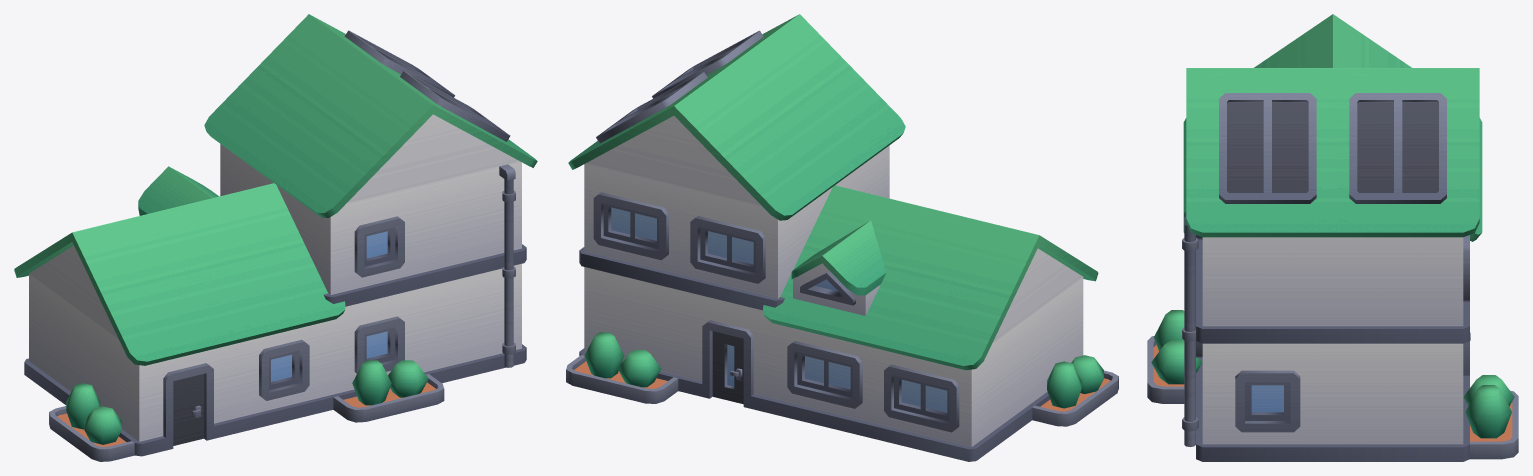
The model's file is building-type-b.draco.glb.
The picture shows the model from 3 angles, left to right: view 1: azimuth 30°, elevation 25°; view 2: azimuth 150°, elevation 25°; view 3: azimuth 270°, elevation 25°; orthographic projection. The views are drawn at different scales.
Parts seen in each view (by area): view 1: building-type-b; view 2: building-type-b; view 3: building-type-b.
Part boxes in pixels (x1,y1,x2,y2): building-type-b: (14, 14, 537, 461); building-type-b: (566, 14, 1118, 461); building-type-b: (1147, 14, 1518, 461).
Size of the model in its own units: 1.83 by 1.14 by 1.14.
Materials: 1 (1 with a texture image).
